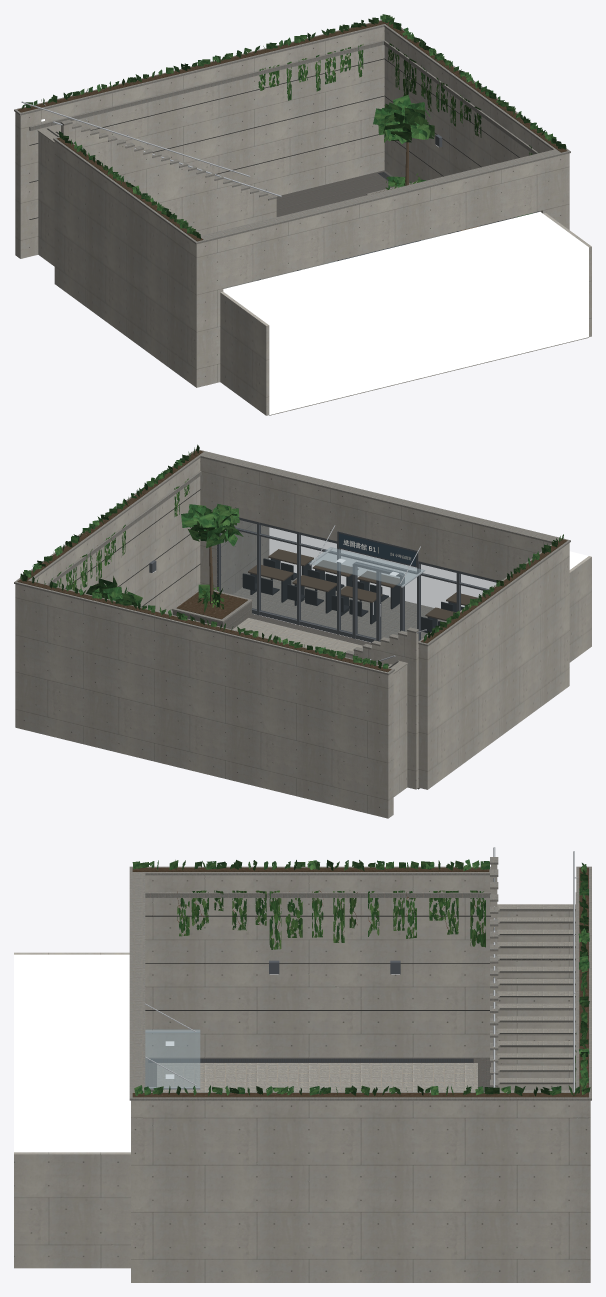
Rendered from lib_b1_court.glb.
The picture shows the model from 3 angles, top to bottom: view 1: azimuth 30°, elevation 25°; view 2: azimuth 150°, elevation 25°; view 3: azimuth 270°, elevation 25°; orthographic projection. The views are drawn at different scales.
Visible parts, largest first — view 1: lbc_form, lbc_lit_room, lbc_cap, lbc_broad, lbc_soil, lbc_ivy, lbc_floor_dk, lbc_nosing, lbc_steel, lbc_floor; view 2: lbc_form, lbc_glass, lbc_cap, lbc_broad, lbc_alu, lbc_floor, lbc_lit_room, lbc_soil, lbc_room_chair, lbc_room_dk, lbc_canopy, lbc_ivy (+3 smaller); view 3: lbc_form, lbc_lit_room, lbc_cap, lbc_floor, lbc_tread, lbc_ivy, lbc_broad, lbc_soil, lbc_nosing, lbc_canopy, lbc_floor_dk, lbc_grate (+1 smaller).
Boxes of the visible parts, bbox=[...] form: lbc_form: bbox=[15, 27, 591, 415]; lbc_lit_room: bbox=[223, 211, 588, 414]; lbc_cap: bbox=[14, 20, 570, 244]; lbc_broad: bbox=[21, 14, 566, 238]; lbc_soil: bbox=[17, 20, 567, 241]; lbc_ivy: bbox=[258, 43, 538, 155]; lbc_floor_dk: bbox=[276, 170, 394, 216]; lbc_nosing: bbox=[29, 58, 519, 220]; lbc_steel: bbox=[21, 101, 421, 240]; lbc_floor: bbox=[223, 234, 588, 415]; lbc_form: bbox=[15, 457, 591, 818]; lbc_glass: bbox=[220, 520, 496, 639]; lbc_cap: bbox=[14, 449, 570, 675]; lbc_broad: bbox=[20, 444, 563, 668]; lbc_alu: bbox=[149, 517, 496, 642]; lbc_floor: bbox=[232, 576, 445, 654]; lbc_lit_room: bbox=[269, 527, 588, 608]; lbc_soil: bbox=[17, 450, 567, 672]; lbc_room_chair: bbox=[242, 558, 464, 632]; lbc_room_dk: bbox=[209, 546, 477, 620]; lbc_canopy: bbox=[308, 547, 424, 586]; lbc_ivy: bbox=[50, 478, 189, 590]; lbc_form: bbox=[14, 864, 590, 1282]; lbc_lit_room: bbox=[14, 954, 130, 1152]; lbc_cap: bbox=[129, 857, 591, 1100]; lbc_floor: bbox=[157, 1063, 477, 1091]; lbc_tread: bbox=[497, 904, 575, 1091]; lbc_ivy: bbox=[177, 890, 576, 1089]; lbc_broad: bbox=[132, 859, 590, 1096]; lbc_soil: bbox=[132, 867, 588, 1097]; lbc_nosing: bbox=[145, 909, 575, 1083]; lbc_canopy: bbox=[145, 1029, 200, 1088]; lbc_floor_dk: bbox=[145, 1057, 490, 1091]; lbc_grate: bbox=[148, 1058, 473, 1062].
Bounding box in the file's own units: 12.66 × 5.27 × 13.33.
22 materials, 12 textured.
